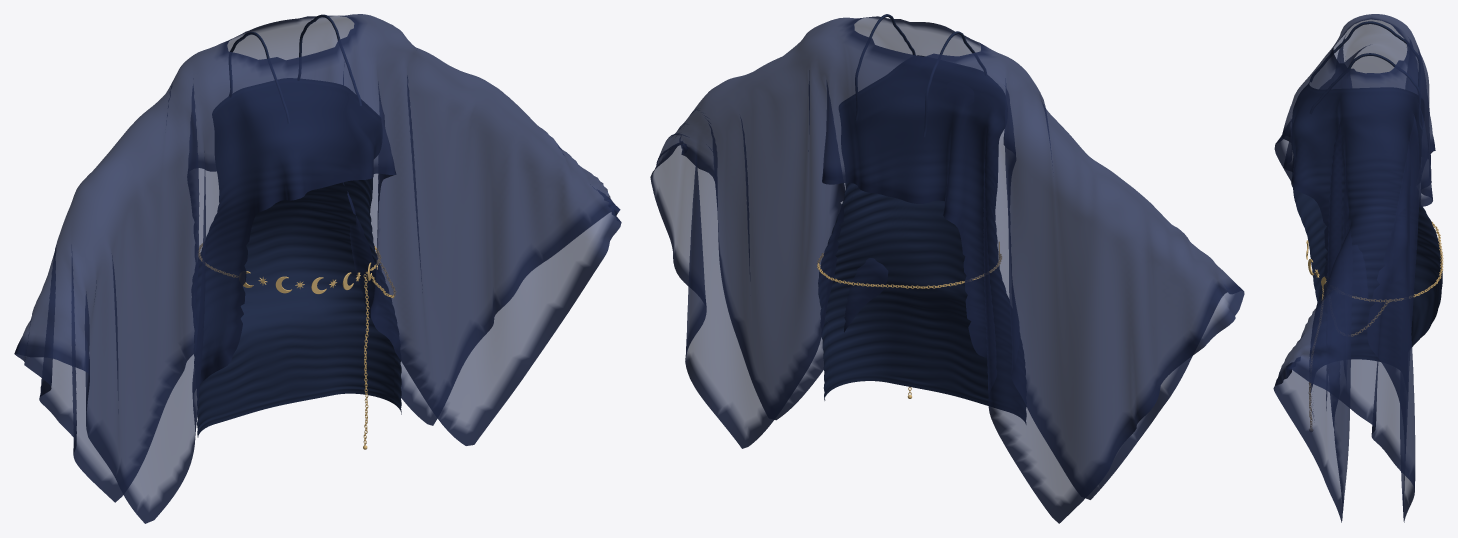
The model's file is vestido-capa-talla-XXL.glb.
3 views of the same model, side by side, from view 1: azimuth 30°, elevation 25°; view 2: azimuth 150°, elevation 25°; view 3: azimuth 270°, elevation 25° (orthographic). The views are drawn at different scales.
Parts seen in each view (by area): view 1: capa-malla, vestido-tirantes, cadena-lunas; view 2: capa-malla, vestido-tirantes; view 3: capa-malla, vestido-tirantes, tirante (×2), cadena.
Part boxes in pixels (x1,y1,x2,y2): capa-malla: (14, 14, 621, 523); vestido-tirantes: (192, 78, 401, 437); cadena-lunas: (239, 260, 377, 449); capa-malla: (650, 16, 1244, 523); vestido-tirantes: (818, 55, 1026, 423); capa-malla: (1273, 14, 1435, 522); vestido-tirantes: (1292, 82, 1442, 412); tirante (×2): (1310, 21, 1422, 130); cadena: (1352, 221, 1443, 301).
Size of the model in its own units: 1.27 by 0.9268 by 0.344.
